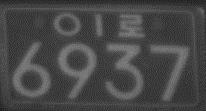0: (52, 11, 82, 37)
1: (87, 13, 110, 37)
3: (104, 42, 144, 102)
6: (10, 41, 53, 99)
7: (149, 43, 191, 102)
9: (57, 41, 99, 100)
로: (116, 13, 146, 38)
